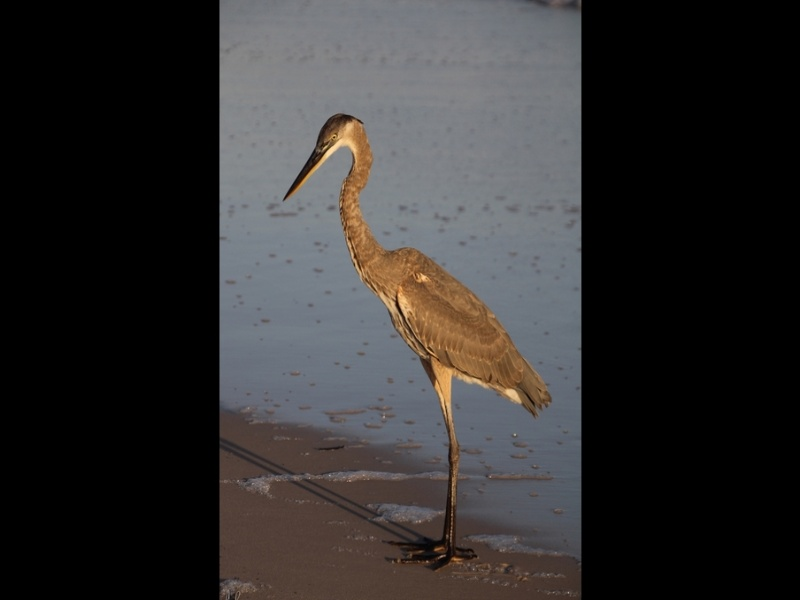heron: (276, 109, 555, 576)
